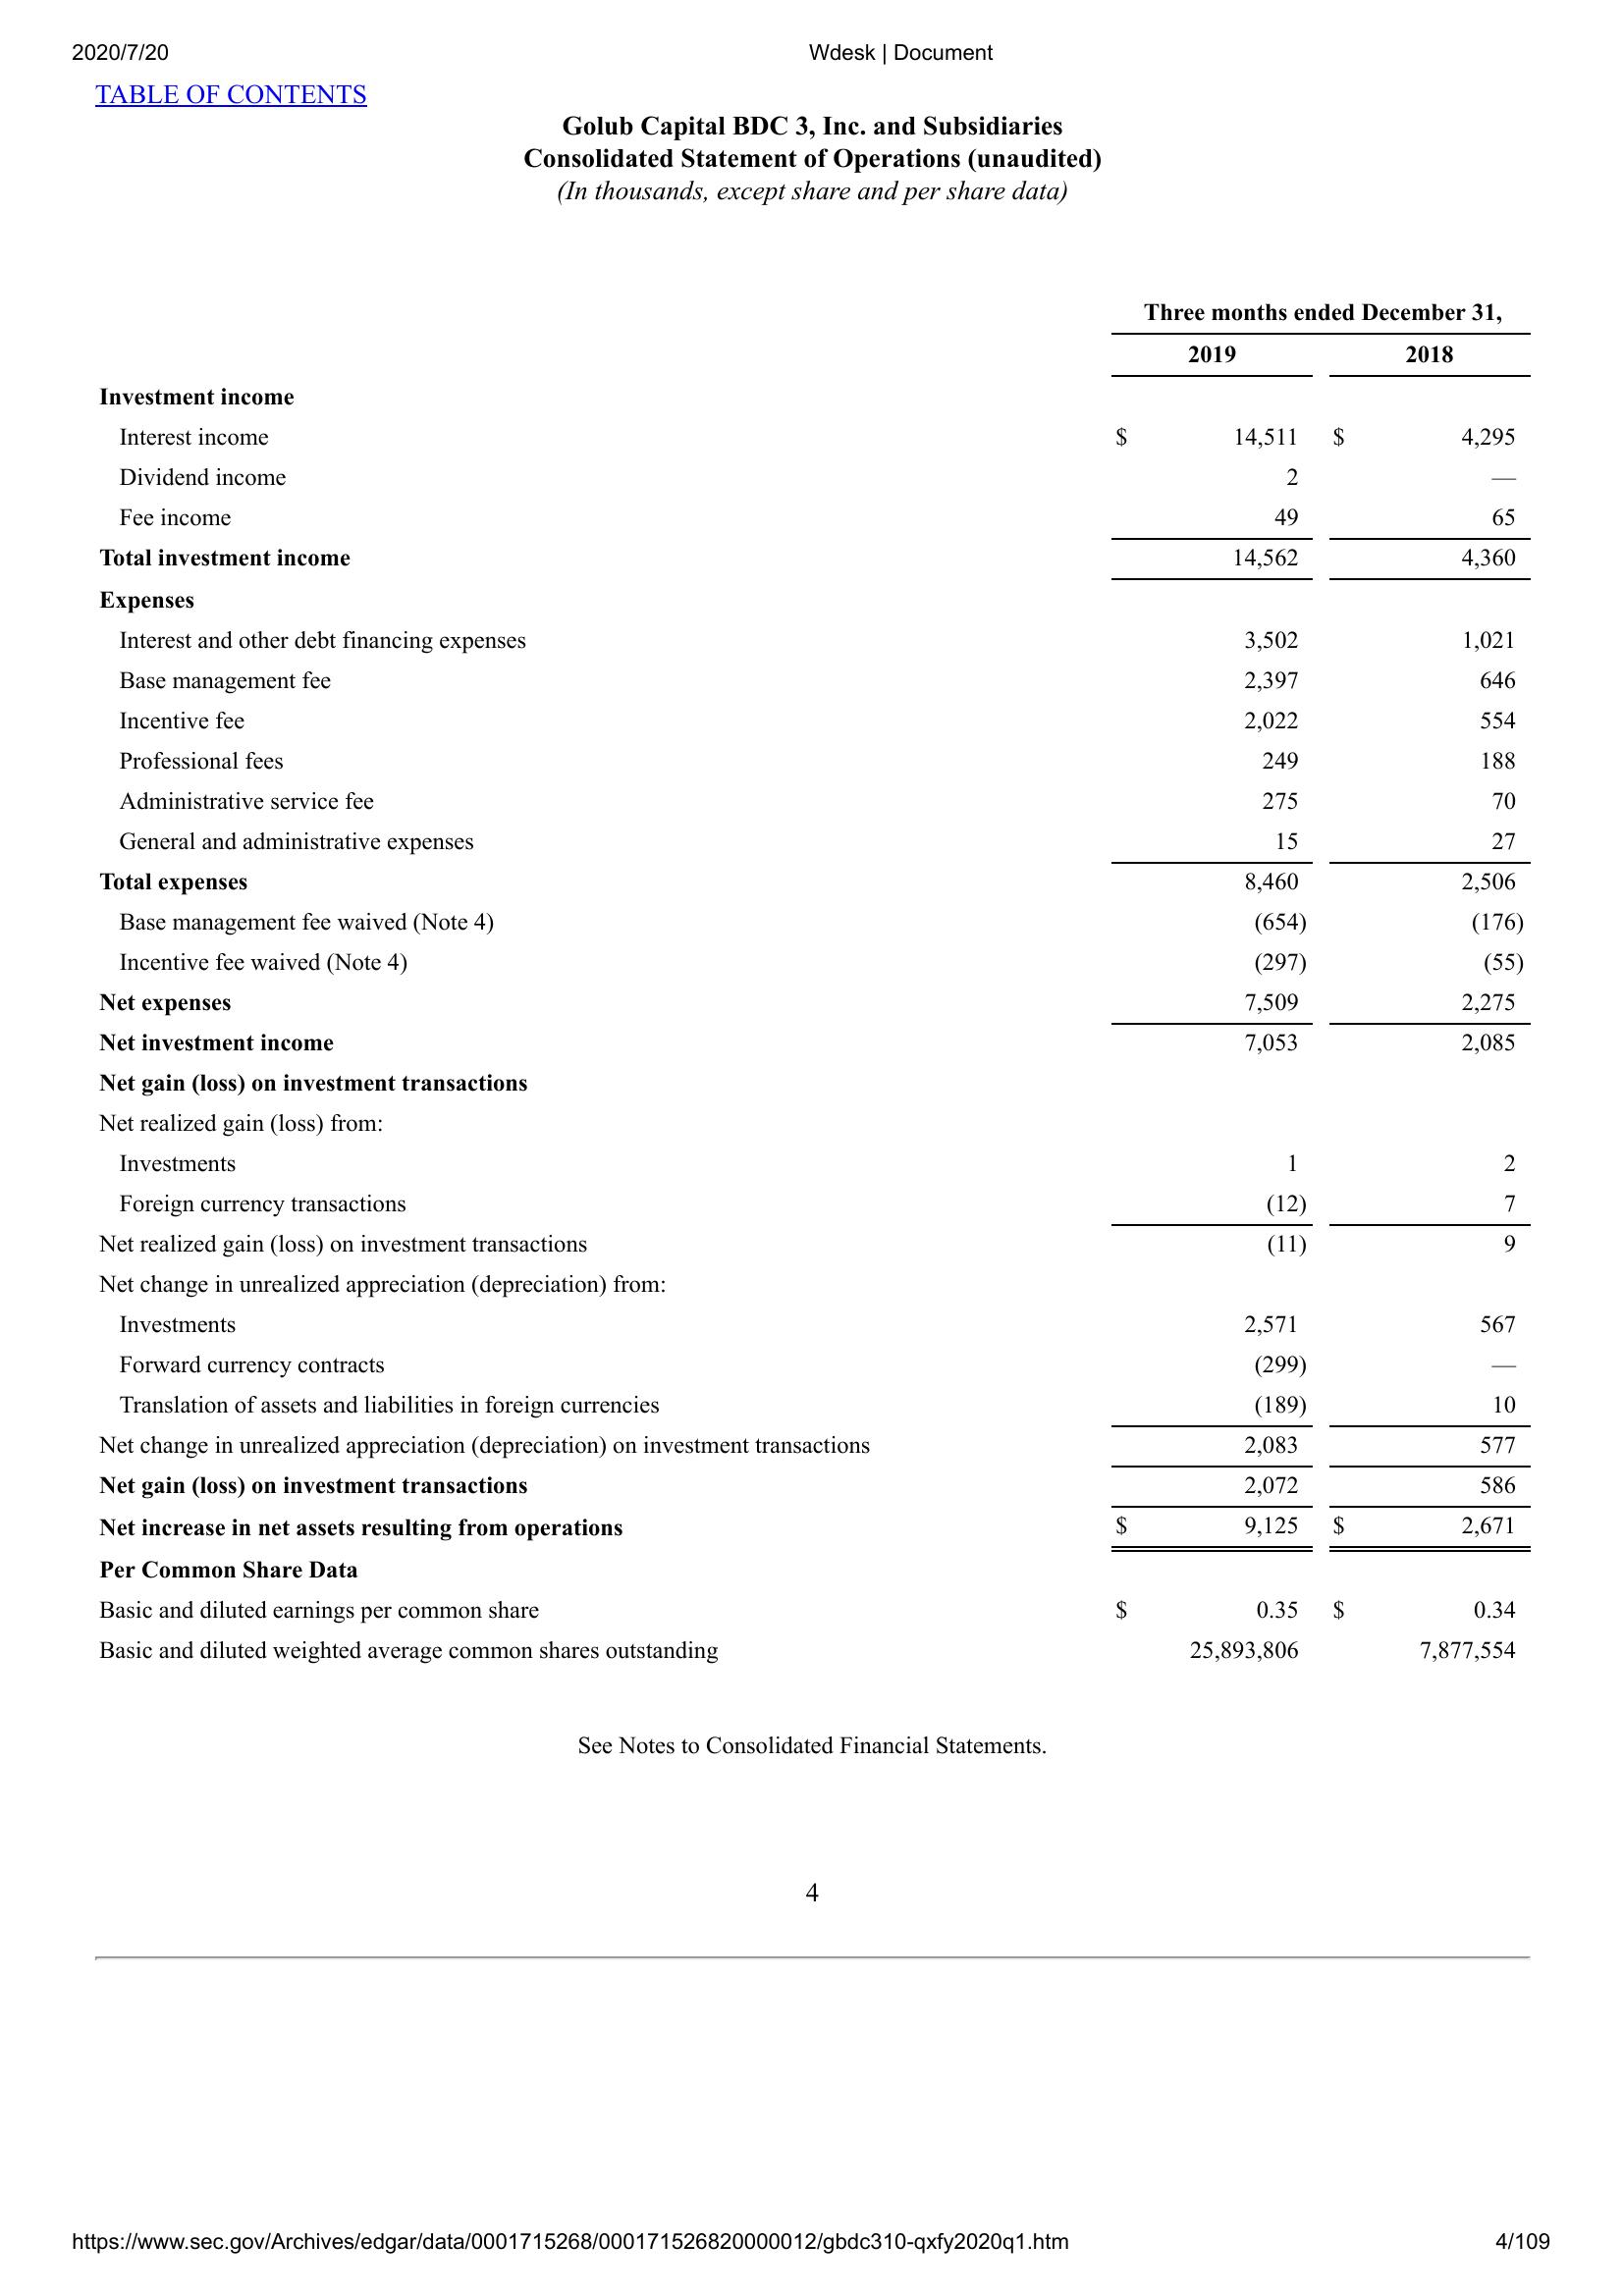table: (98, 300, 1526, 1673)
